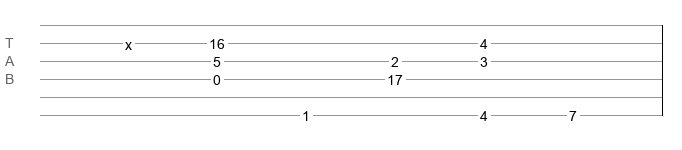0: (213, 72, 221, 82)
1: (302, 108, 310, 118)
16: (209, 36, 225, 46)
17: (387, 72, 403, 82)
2: (391, 54, 399, 64)
3: (480, 54, 488, 64)
4: (480, 36, 488, 46), (480, 108, 488, 118)
5: (213, 54, 221, 64)
7: (569, 108, 577, 118)
x: (125, 37, 132, 45)
